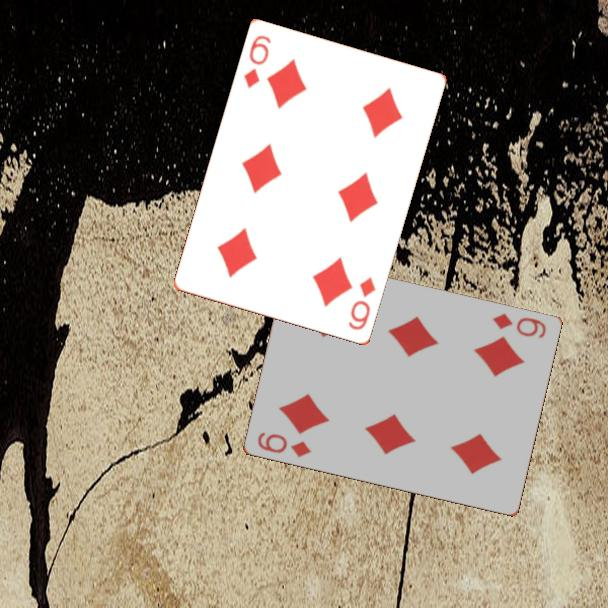d06: (240, 32, 274, 92), (345, 274, 379, 333), (488, 310, 549, 341), (254, 429, 314, 460)
